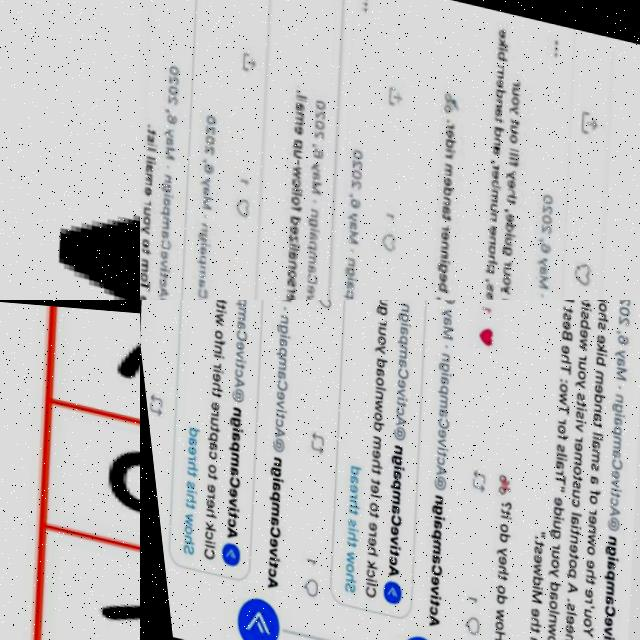0: (538, 186, 549, 197), (537, 206, 548, 216), (349, 144, 360, 154), (313, 95, 324, 105), (201, 131, 211, 142), (202, 113, 213, 123), (166, 83, 176, 94), (167, 63, 178, 73), (312, 115, 322, 125), (348, 164, 358, 173)
1: (381, 208, 390, 214), (235, 176, 244, 182)
2: (200, 141, 213, 153), (611, 325, 623, 336), (165, 92, 176, 103), (536, 215, 547, 225), (311, 125, 322, 135), (201, 122, 212, 132), (166, 73, 177, 83), (347, 174, 357, 184), (537, 196, 548, 205), (348, 154, 359, 163), (313, 106, 323, 115)
6: (535, 234, 546, 245), (345, 193, 356, 203), (309, 143, 319, 154), (199, 161, 210, 171), (164, 112, 174, 122)
7: (85, 556, 140, 640)
8: (97, 439, 140, 534)
A: (375, 558, 389, 573), (385, 408, 399, 422), (425, 458, 439, 471), (253, 573, 266, 587), (555, 574, 568, 587), (415, 610, 428, 623), (225, 374, 238, 387), (591, 585, 603, 598), (215, 525, 228, 537), (265, 424, 277, 436), (599, 498, 611, 509), (609, 348, 620, 359), (380, 500, 391, 511), (595, 551, 605, 563), (261, 477, 271, 489), (221, 428, 231, 440), (230, 317, 240, 329), (151, 285, 161, 296), (606, 408, 616, 419), (580, 466, 590, 477), (582, 431, 592, 442), (584, 404, 595, 414), (560, 507, 570, 518), (430, 402, 440, 413), (432, 369, 442, 380), (383, 464, 393, 475), (391, 353, 401, 364), (259, 513, 269, 524), (422, 513, 431, 525), (531, 257, 541, 267), (437, 199, 447, 209), (343, 216, 353, 226), (300, 260, 310, 270), (303, 227, 313, 237), (282, 247, 292, 257), (293, 98, 303, 108), (190, 276, 200, 286), (192, 243, 202, 253), (154, 228, 164, 238), (156, 195, 166, 205), (545, 452, 555, 462), (420, 549, 430, 559), (393, 320, 403, 330), (339, 471, 349, 481), (269, 367, 279, 377), (220, 464, 230, 474), (199, 440, 209, 450), (179, 435, 189, 445), (604, 440, 613, 451), (537, 583, 546, 594), (272, 334, 281, 345), (491, 100, 501, 109), (307, 168, 317, 177), (197, 184, 207, 193), (436, 311, 446, 320), (368, 363, 378, 372), (489, 138, 498, 147), (161, 136, 170, 145), (140, 162, 149, 171), (340, 276, 347, 286)
B: (555, 321, 567, 333), (589, 347, 601, 358), (432, 276, 443, 286), (574, 311, 586, 320), (497, 43, 507, 53), (487, 173, 498, 182)
C: (351, 580, 365, 595), (591, 596, 604, 609), (602, 449, 615, 462), (389, 362, 402, 375), (258, 523, 271, 536), (268, 376, 281, 389), (229, 327, 242, 340), (191, 546, 204, 559), (418, 559, 431, 571), (154, 237, 166, 249), (379, 510, 391, 522), (301, 270, 312, 282), (190, 286, 201, 298), (219, 475, 231, 486), (430, 412, 441, 423), (561, 489, 571, 500), (377, 551, 387, 562), (216, 515, 226, 526), (193, 528, 203, 539), (416, 600, 426, 610), (387, 401, 397, 411), (353, 563, 363, 573), (255, 565, 265, 575), (151, 275, 160, 286), (199, 448, 208, 459), (427, 450, 437, 459), (266, 415, 276, 424), (227, 366, 236, 375), (600, 489, 610, 497)
D: (488, 525, 501, 537), (499, 215, 512, 226), (364, 416, 376, 427), (369, 353, 381, 364), (341, 461, 353, 472), (180, 426, 192, 437), (543, 498, 555, 509), (483, 588, 496, 598), (586, 385, 598, 395), (538, 574, 550, 584), (491, 120, 502, 130), (442, 132, 453, 142), (521, 569, 533, 578), (494, 81, 504, 91), (439, 180, 449, 190), (285, 212, 296, 221), (494, 291, 504, 300), (533, 637, 545, 640)
E: (218, 485, 229, 496), (572, 580, 582, 592), (574, 550, 584, 562), (521, 546, 531, 558), (204, 369, 214, 381), (591, 608, 601, 619), (577, 506, 587, 517), (586, 375, 596, 386), (590, 325, 600, 336), (552, 616, 562, 627), (518, 600, 528, 611), (486, 548, 496, 559), (427, 423, 438, 433), (362, 444, 372, 455), (338, 479, 348, 490), (268, 387, 278, 398), (178, 444, 188, 455), (499, 205, 509, 215), (502, 171, 512, 181), (434, 224, 444, 234), (442, 122, 452, 132), (284, 220, 294, 230), (601, 460, 611, 470), (553, 607, 563, 617), (558, 535, 568, 545), (565, 434, 575, 444), (573, 320, 583, 330), (543, 489, 553, 499), (554, 337, 564, 347), (556, 312, 566, 322), (418, 570, 428, 580), (379, 521, 389, 531), (389, 373, 399, 383), (359, 479, 369, 489), (257, 535, 267, 545), (195, 497, 205, 507), (196, 482, 206, 492), (202, 399, 212, 409), (494, 71, 503, 81), (497, 21, 507, 30), (432, 266, 441, 276), (280, 290, 289, 300), (356, 532, 365, 542), (357, 517, 366, 527), (229, 338, 238, 348), (483, 219, 492, 228), (438, 170, 447, 179), (299, 281, 308, 290), (292, 121, 301, 130), (153, 249, 162, 258), (477, 292, 487, 300), (488, 162, 496, 172), (140, 185, 147, 194), (188, 297, 198, 300)
F: (207, 336, 219, 344), (580, 480, 591, 488), (549, 426, 560, 434), (287, 201, 298, 208), (505, 152, 515, 159)
G: (380, 448, 395, 462), (260, 463, 273, 476), (220, 414, 233, 426), (370, 300, 382, 312), (594, 537, 606, 548), (604, 394, 616, 405), (539, 521, 551, 532), (421, 499, 433, 510), (391, 306, 403, 317), (270, 320, 282, 331), (431, 256, 442, 266), (338, 262, 349, 272), (431, 356, 443, 365), (302, 213, 312, 223), (495, 239, 506, 248), (156, 181, 167, 190), (192, 229, 202, 238)
H: (481, 624, 494, 637), (553, 346, 566, 357), (518, 610, 530, 620), (486, 558, 498, 568), (333, 569, 345, 579), (338, 495, 350, 505), (195, 507, 207, 517), (204, 380, 216, 390), (172, 534, 184, 544), (175, 492, 187, 502), (502, 181, 513, 191), (593, 303, 604, 313), (552, 626, 563, 636), (336, 527, 347, 537), (574, 562, 586, 571), (355, 542, 367, 551), (177, 460, 189, 469), (482, 247, 492, 257), (362, 455, 373, 463)
I: (417, 590, 430, 596), (262, 473, 273, 480), (423, 509, 435, 515), (428, 440, 440, 446), (384, 460, 396, 466), (394, 316, 406, 322), (223, 425, 235, 431), (591, 627, 602, 633), (601, 478, 612, 484), (521, 578, 532, 584), (389, 391, 400, 397), (354, 574, 365, 580), (257, 553, 268, 559), (218, 504, 229, 510), (228, 356, 239, 362), (193, 538, 204, 544), (597, 547, 607, 553), (607, 403, 617, 409), (591, 343, 601, 349), (569, 398, 579, 404), (433, 366, 445, 371), (176, 487, 186, 493), (568, 411, 579, 416), (379, 540, 390, 545), (337, 523, 348, 528), (209, 306, 220, 311), (434, 252, 444, 257), (305, 224, 315, 229), (153, 267, 163, 272), (543, 508, 553, 513), (548, 448, 558, 453), (491, 508, 501, 513), (268, 405, 278, 410), (273, 331, 283, 336), (206, 367, 216, 372), (207, 352, 217, 357), (500, 225, 509, 230), (498, 39, 507, 44), (194, 240, 203, 245), (142, 158, 151, 163), (143, 141, 152, 146), (561, 517, 571, 521), (505, 149, 514, 153), (443, 142, 452, 146), (285, 240, 294, 244), (159, 191, 168, 195), (341, 273, 350, 277), (295, 95, 303, 98), (576, 300, 586, 302), (299, 299, 308, 300)
K: (590, 334, 602, 344), (193, 520, 205, 530), (354, 556, 366, 565), (498, 31, 508, 40)
L: (561, 504, 572, 510), (555, 603, 565, 609), (537, 602, 547, 608), (355, 577, 365, 583), (369, 381, 379, 387), (193, 542, 203, 548), (584, 427, 595, 432), (548, 445, 559, 450), (360, 489, 371, 494), (585, 423, 595, 428), (506, 144, 515, 149), (506, 140, 515, 145), (142, 154, 151, 159), (295, 91, 305, 95), (285, 243, 294, 247), (143, 146, 152, 150), (289, 188, 297, 192), (290, 184, 298, 188)
M: (434, 319, 449, 334), (305, 175, 318, 191), (420, 533, 432, 550), (609, 357, 622, 372), (519, 582, 532, 597), (291, 106, 303, 122), (593, 570, 604, 587), (259, 497, 270, 514), (493, 57, 505, 72), (438, 156, 450, 171), (532, 266, 544, 281), (301, 245, 312, 261), (190, 261, 201, 277), (430, 387, 441, 403), (362, 430, 373, 446), (220, 450, 231, 466), (603, 426, 615, 440), (342, 225, 353, 240), (160, 144, 171, 159), (381, 485, 392, 500), (391, 339, 402, 354), (196, 193, 207, 207), (581, 440, 592, 454), (564, 444, 575, 458), (269, 353, 280, 367), (587, 362, 598, 376), (486, 180, 495, 196), (155, 213, 164, 229), (231, 305, 241, 319), (140, 171, 149, 185), (337, 293, 346, 300), (140, 257, 143, 272)
N: (597, 526, 607, 538), (577, 515, 587, 526), (516, 629, 526, 640), (385, 439, 395, 450), (224, 404, 234, 415), (206, 343, 216, 354), (263, 453, 273, 464), (482, 228, 492, 238), (489, 129, 499, 139), (433, 243, 443, 253), (434, 233, 444, 243), (558, 527, 568, 537), (535, 606, 545, 616), (424, 489, 434, 499), (437, 189, 447, 198), (585, 395, 595, 404), (434, 347, 444, 356), (366, 386, 376, 395), (274, 312, 283, 321), (485, 205, 493, 215), (493, 90, 501, 100), (159, 171, 167, 181), (341, 252, 349, 261), (305, 204, 313, 213), (283, 256, 291, 265), (195, 221, 203, 230), (608, 385, 616, 394), (394, 300, 404, 307), (529, 294, 538, 300)
O: (563, 457, 573, 469), (484, 577, 494, 588), (358, 497, 368, 508), (367, 371, 377, 382), (197, 462, 207, 473), (570, 609, 580, 620), (495, 269, 505, 279), (508, 88, 518, 98), (281, 265, 291, 275), (288, 174, 298, 184), (575, 537, 585, 547), (579, 486, 589, 496), (535, 593, 545, 603), (539, 551, 549, 561), (488, 516, 498, 526), (364, 407, 374, 417), (207, 327, 217, 337), (557, 551, 566, 562), (534, 627, 543, 638), (287, 193, 296, 203), (570, 363, 580, 372), (549, 416, 558, 426), (552, 375, 561, 385), (370, 331, 380, 340), (334, 559, 343, 569), (173, 524, 182, 534), (482, 614, 491, 623), (506, 127, 514, 136), (482, 238, 490, 247), (140, 214, 145, 224), (140, 237, 144, 247), (592, 300, 602, 303)
P: (419, 522, 432, 534), (593, 561, 605, 573), (380, 473, 392, 485), (219, 438, 231, 450), (603, 416, 615, 427), (554, 560, 566, 571), (258, 488, 270, 499), (430, 378, 442, 388), (268, 343, 280, 353), (154, 204, 165, 214), (391, 330, 402, 340), (289, 135, 299, 145), (479, 257, 490, 266), (300, 237, 311, 246), (198, 430, 209, 439), (337, 285, 347, 294), (191, 253, 201, 262), (229, 300, 241, 304), (277, 297, 288, 300)
R: (572, 588, 581, 596), (357, 525, 366, 533), (372, 314, 381, 322), (430, 293, 440, 300), (435, 218, 445, 225), (578, 500, 588, 507), (540, 535, 550, 542), (488, 155, 497, 162), (443, 115, 452, 122), (572, 346, 581, 353), (546, 461, 555, 468), (440, 145, 450, 151), (280, 284, 290, 290), (510, 72, 518, 79), (340, 489, 348, 496), (566, 428, 575, 434), (196, 491, 205, 497), (202, 409, 211, 415), (205, 361, 214, 367), (178, 453, 187, 459), (550, 410, 558, 416), (498, 253, 505, 259), (140, 198, 145, 204)
S: (332, 577, 345, 590), (172, 543, 183, 554), (478, 283, 488, 293), (554, 594, 564, 604), (547, 435, 557, 445), (175, 479, 185, 489), (479, 275, 488, 285), (281, 274, 290, 284), (142, 133, 151, 143), (591, 312, 601, 321), (563, 472, 572, 482), (581, 454, 590, 463), (575, 302, 584, 311), (523, 538, 532, 547), (337, 515, 346, 524), (567, 403, 577, 411), (557, 305, 567, 313), (569, 384, 578, 392)
T: (549, 394, 563, 408), (545, 466, 557, 478), (553, 356, 565, 367), (584, 413, 596, 421), (485, 567, 497, 575), (256, 558, 268, 566), (216, 509, 228, 517), (417, 594, 428, 602), (427, 443, 438, 451), (201, 424, 212, 432), (203, 389, 214, 397), (177, 469, 188, 477), (517, 618, 528, 626), (492, 108, 502, 116), (574, 570, 584, 578), (228, 359, 238, 367), (378, 544, 388, 552), (590, 632, 601, 639), (563, 467, 574, 474), (267, 409, 278, 416), (360, 474, 371, 481), (388, 395, 399, 402), (507, 110, 517, 117), (152, 270, 162, 277), (601, 482, 611, 489), (569, 392, 579, 399), (198, 472, 208, 479), (336, 537, 346, 544), (338, 505, 348, 512), (523, 534, 534, 540), (210, 301, 221, 307), (361, 464, 372, 470), (560, 521, 569, 528), (491, 502, 500, 509), (437, 209, 447, 215), (143, 127, 153, 133), (558, 545, 568, 551), (175, 502, 185, 508), (556, 300, 568, 305), (502, 191, 511, 197), (359, 508, 368, 514), (140, 246, 144, 253)
U: (542, 512, 552, 522), (371, 321, 381, 331), (506, 117, 516, 126), (570, 601, 580, 610), (562, 481, 572, 490), (540, 542, 549, 552), (291, 145, 299, 155), (202, 415, 210, 425), (499, 229, 507, 238), (572, 353, 580, 362), (497, 259, 504, 269), (510, 78, 517, 88), (486, 196, 493, 205), (140, 205, 145, 214)
V: (0, 0, 140, 300), (417, 579, 427, 591), (152, 257, 162, 268), (591, 617, 601, 628), (267, 396, 277, 407), (298, 289, 308, 299), (428, 431, 438, 441), (378, 530, 388, 540), (257, 544, 267, 554), (601, 469, 610, 479), (389, 382, 399, 391), (218, 495, 227, 505), (228, 347, 238, 356), (567, 415, 576, 424)
W: (481, 601, 493, 616), (333, 546, 345, 560), (207, 310, 219, 324), (520, 555, 531, 570), (575, 525, 586, 539), (534, 615, 545, 629), (550, 383, 561, 397), (572, 329, 583, 342), (172, 512, 183, 525), (289, 161, 298, 176), (365, 395, 376, 407), (550, 634, 563, 640)
Y: (484, 539, 497, 551), (569, 618, 582, 630), (368, 338, 380, 349), (505, 96, 518, 106), (567, 371, 579, 381), (493, 277, 504, 287), (531, 249, 542, 259), (306, 158, 317, 168), (160, 126, 171, 136), (608, 340, 620, 349), (435, 302, 447, 311), (501, 162, 511, 172), (342, 207, 352, 217), (196, 175, 206, 185), (537, 560, 548, 569), (140, 223, 144, 233)
Z: (284, 230, 294, 240)
